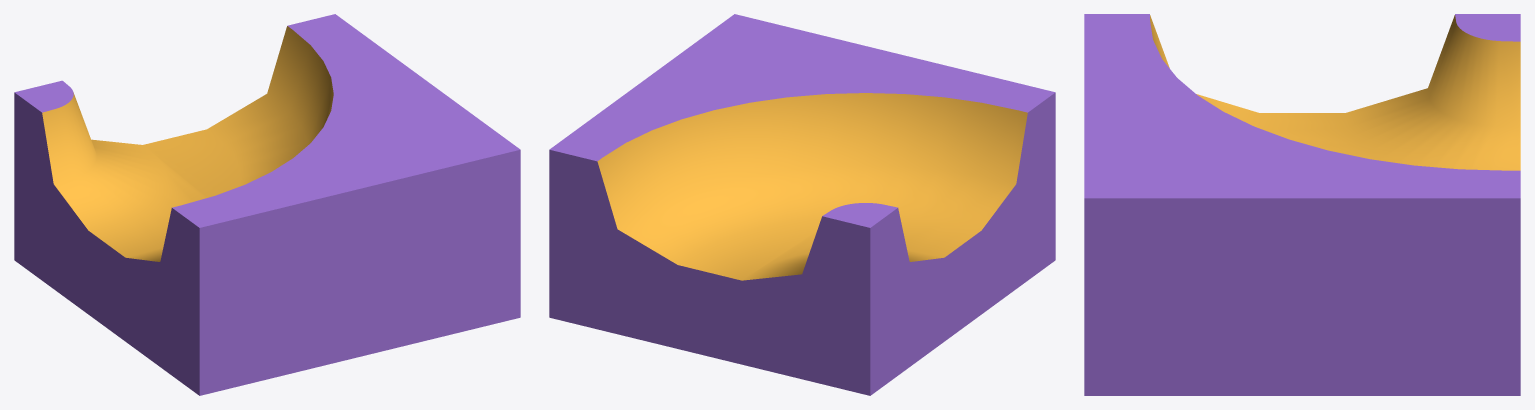
File: corner-solid.glb
The picture shows the model from 3 angles, left to right: view 1: azimuth 30°, elevation 25°; view 2: azimuth 150°, elevation 25°; view 3: azimuth 270°, elevation 25°; orthographic projection. The views are drawn at different scales.
Parts seen in each view (by area): view 1: corner-solid; view 2: corner-solid; view 3: corner-solid.
Part boxes in pixels (x1,y1,x2,y2): corner-solid: [14, 14, 520, 395]; corner-solid: [549, 14, 1055, 395]; corner-solid: [1084, 14, 1520, 395].
Bounding box in the file's own units: 1 × 0.5001 × 1.
1 material, 1 textured.
